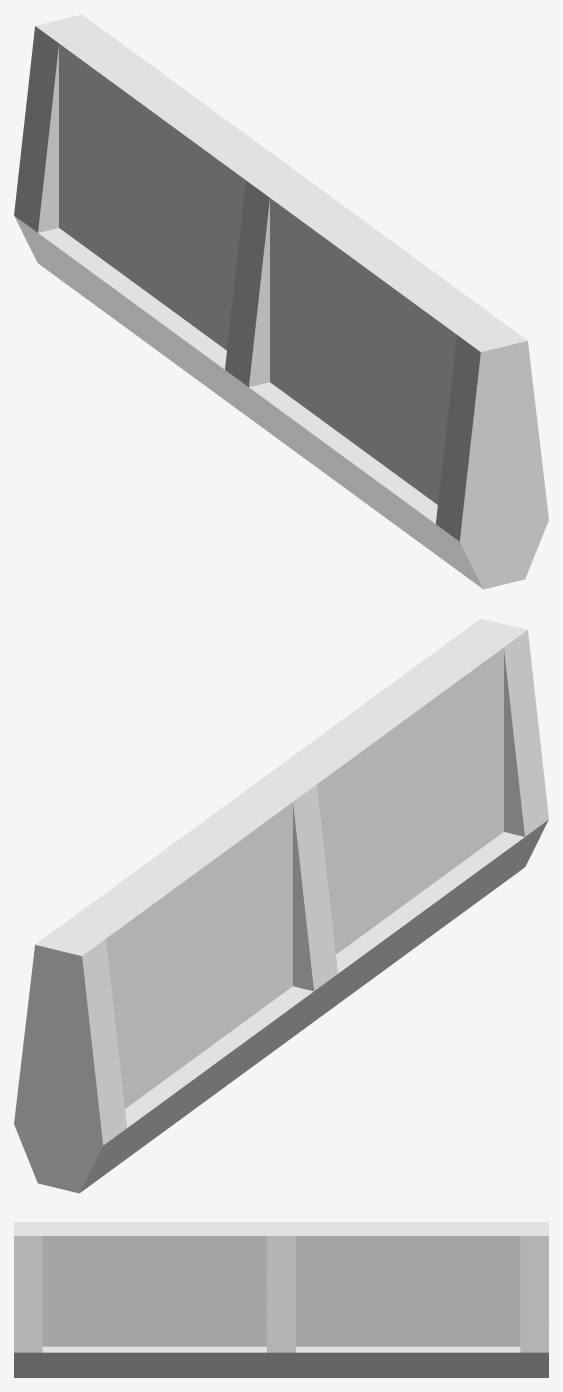
File: BarrierShip.fbx
3 renders of one model, top to bottom at view 1: azimuth 30°, elevation 25°; view 2: azimuth 150°, elevation 25°; view 3: azimuth 270°, elevation 25°, orthographic. The views are drawn at different scales.
Visible parts, largest first — view 1: BarrierHalfShip, BarrierShip; view 2: BarrierShip, BarrierHalfShip; view 3: BarrierShip, BarrierHalfShip.
Part boxes in pixels (x1,y1,x2,y2): BarrierHalfShip: (249, 186, 548, 589); BarrierShip: (14, 14, 316, 434); BarrierShip: (14, 773, 337, 1193); BarrierHalfShip: (270, 618, 548, 1020); BarrierShip: (267, 1222, 548, 1377); BarrierHalfShip: (14, 1222, 266, 1377).
Size of the model in its own units: 19.78 by 50.4 by 171.
1 material, 1 textured.
